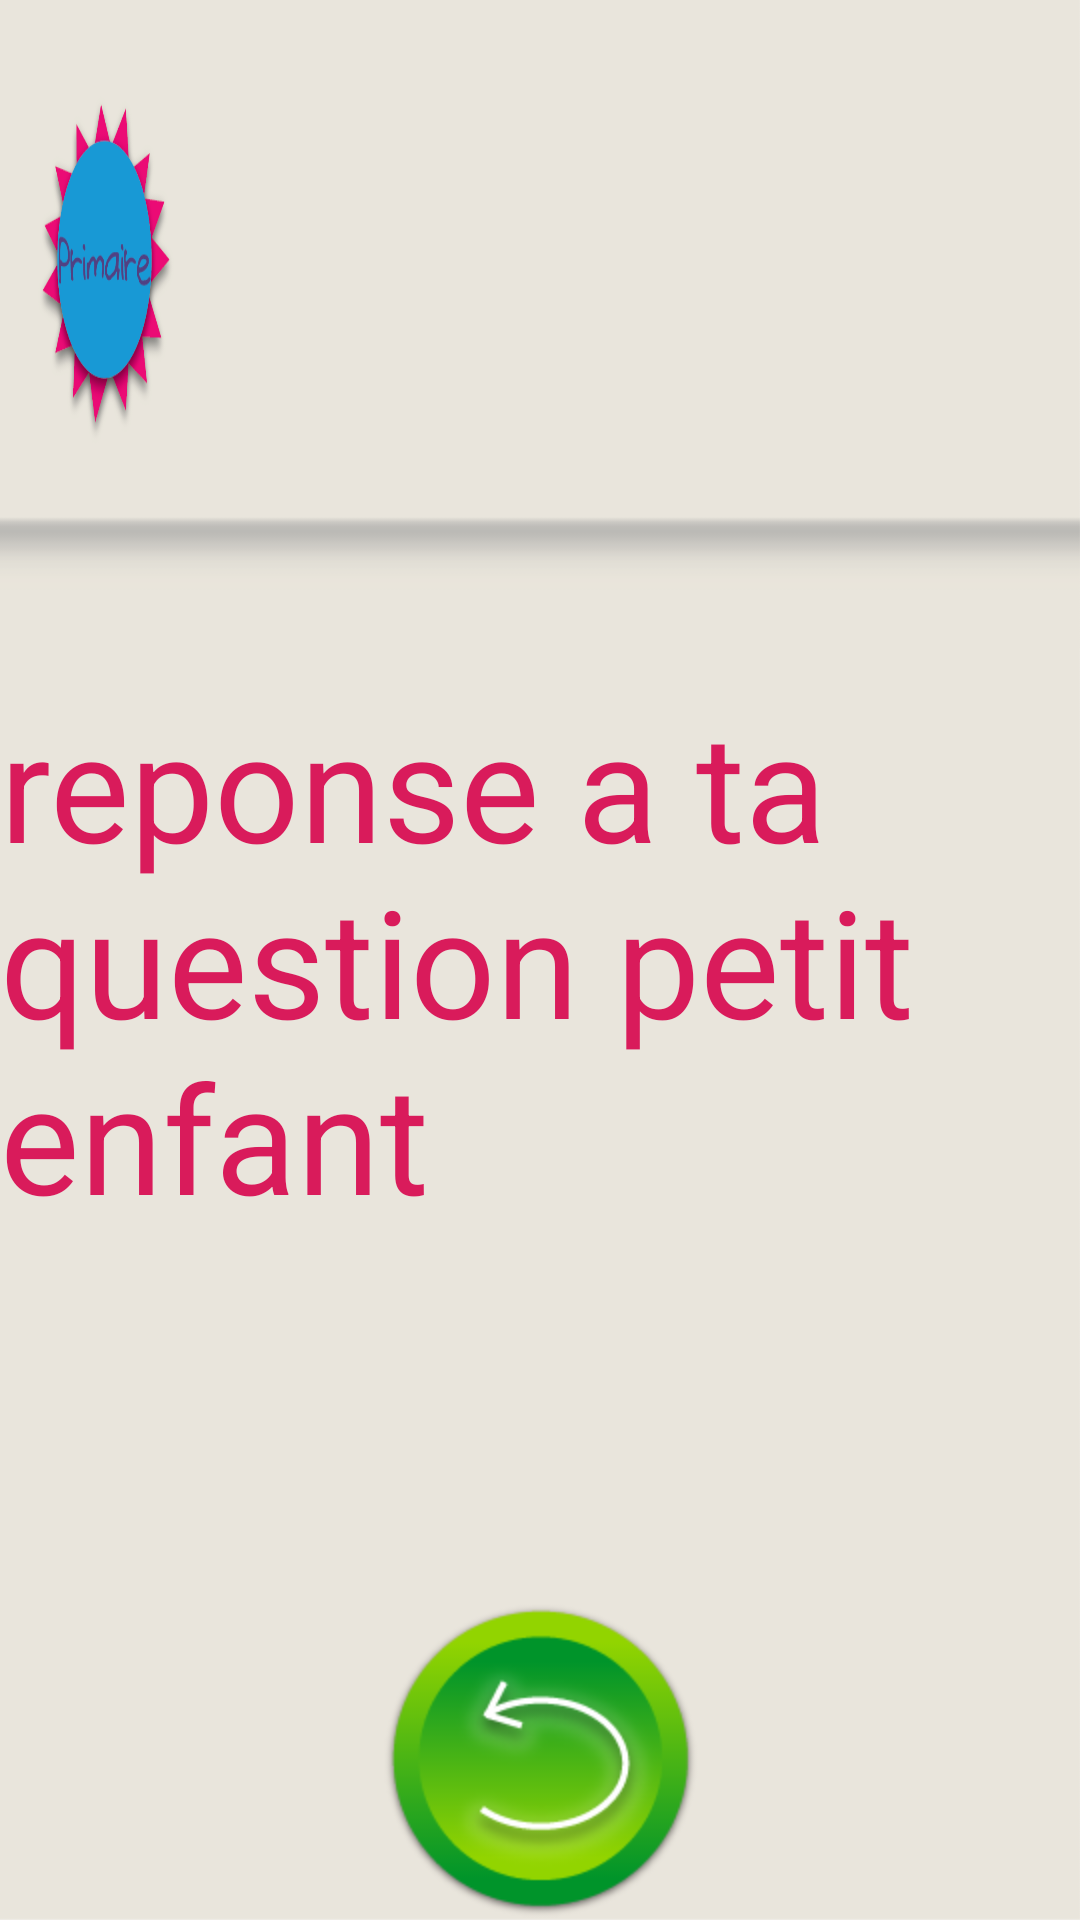

Named icons in this screenshot (1080 x 1920) and their bounding boxes, BBox(x1, y1, x2, y2):
back: BBox(390, 1609, 692, 1912)
